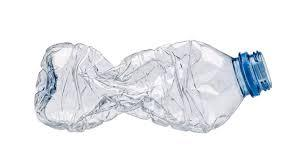Plastic: (18, 23, 278, 143)
